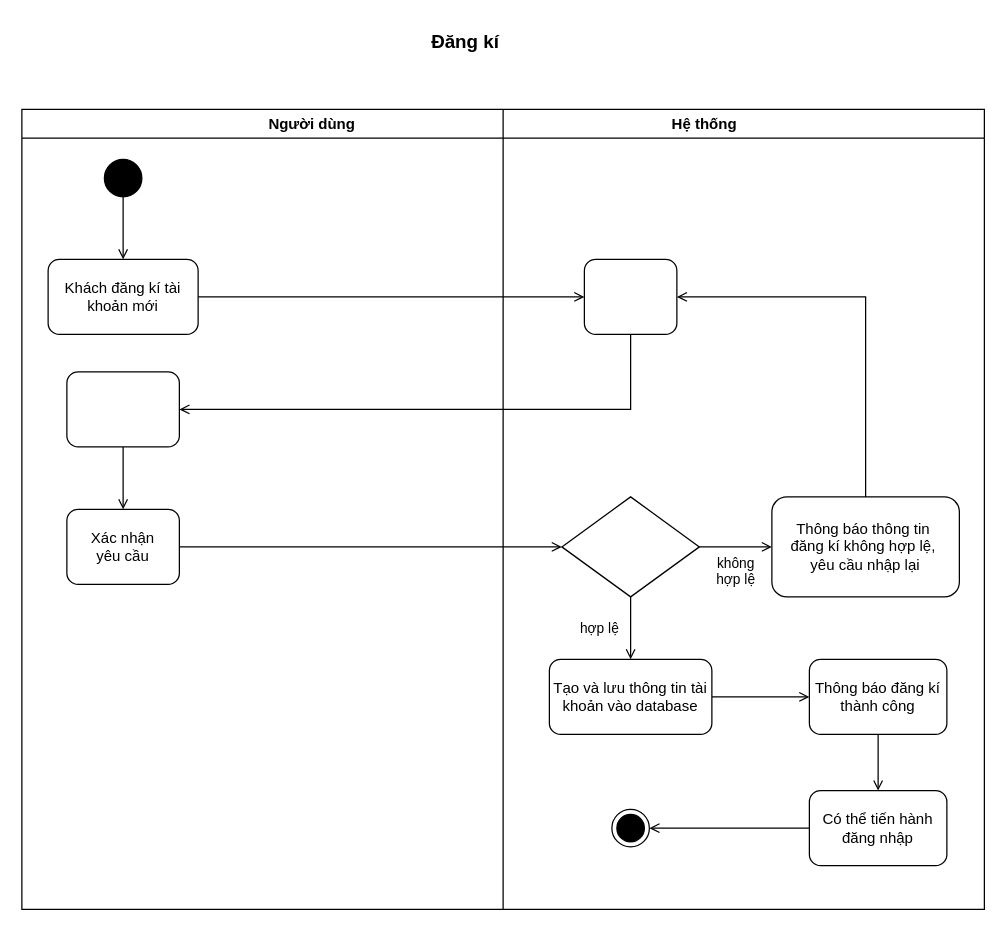
This 1006x933 diagram has some shape labels left out. The shapes that lost their labels are listed below. From the top down, each one's centre as x and y in pixels, then its label:
At pixel 630 296: "Hiện form đăng kí".
At pixel 122 409: "Điền thông tin".
At pixel 630 546: "Xử lý thông tin".
